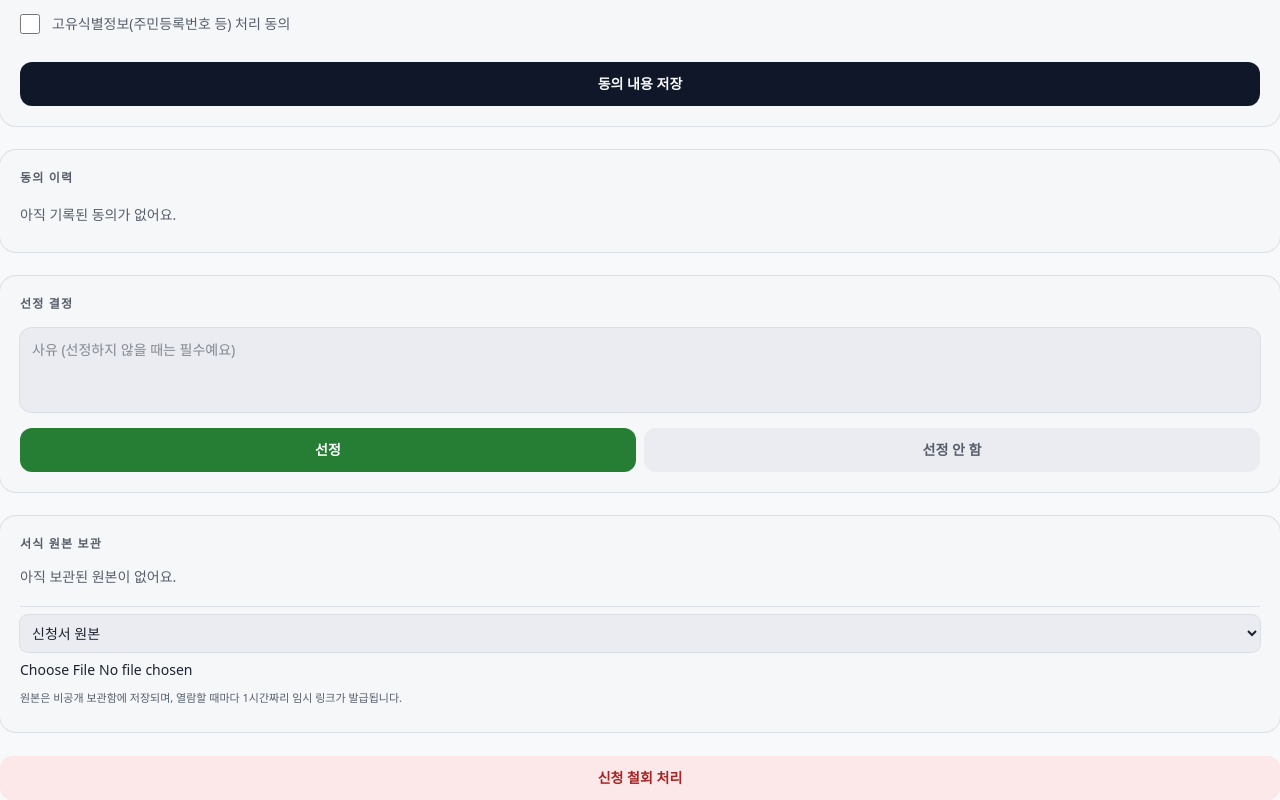
Test: ApplicationDetailClient — 동의 선행조건이 화면에 실제로 나타나는지 › 동의 미완료 상태에서 선정을 시도하면, DB 트리거가 낸 에러 메시지를 화면에 그대로 보여준다
The width and height of the screenshot is (1280, 800).
(page scrolled)
What coordinates should you click on to do the following:
click the button "선정"
I would click on:
 (328, 450)
Its box is [20,428,636,472].
(page scrolled)
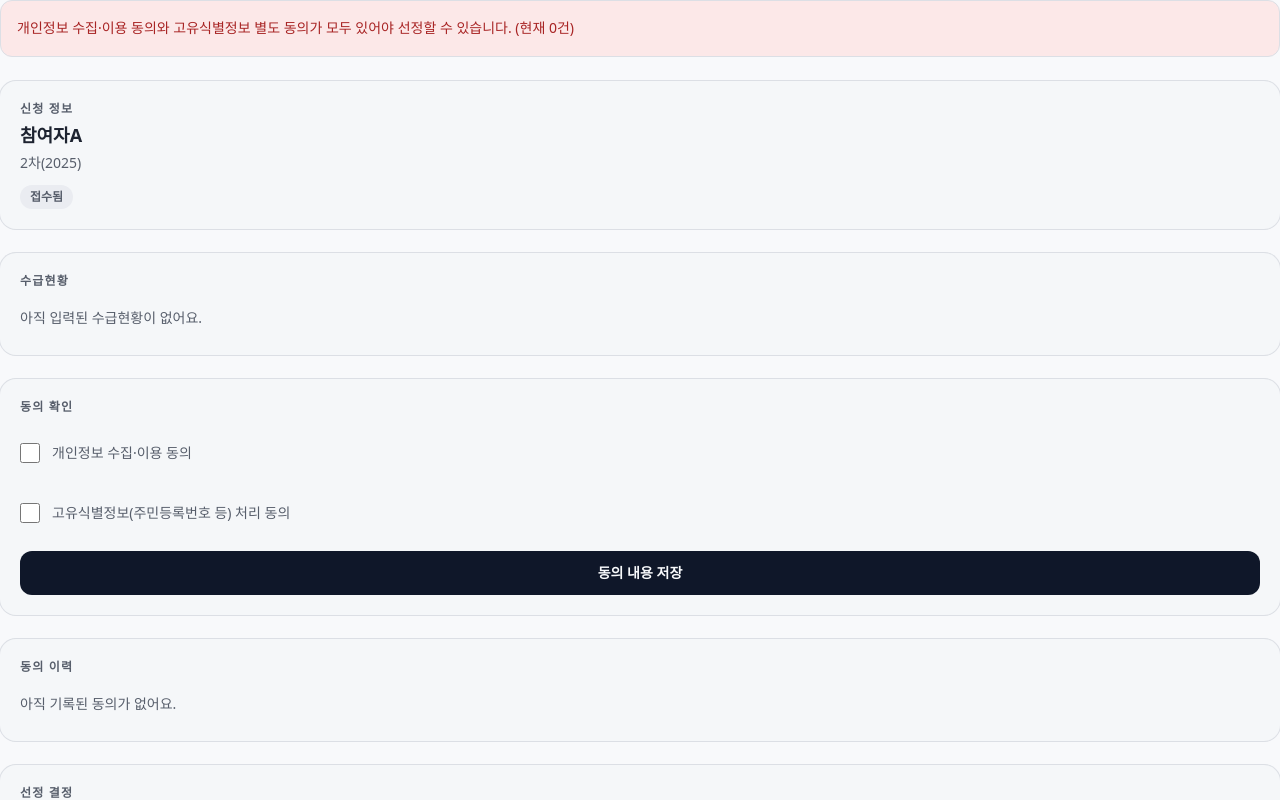
Result: the text "개인정보 수집·이용 동의와 고유식별정보 별도 동의가 모두 있어야 선정할 수 있습니다. (현재 0건)" is shown at [0,0,1279,57]
